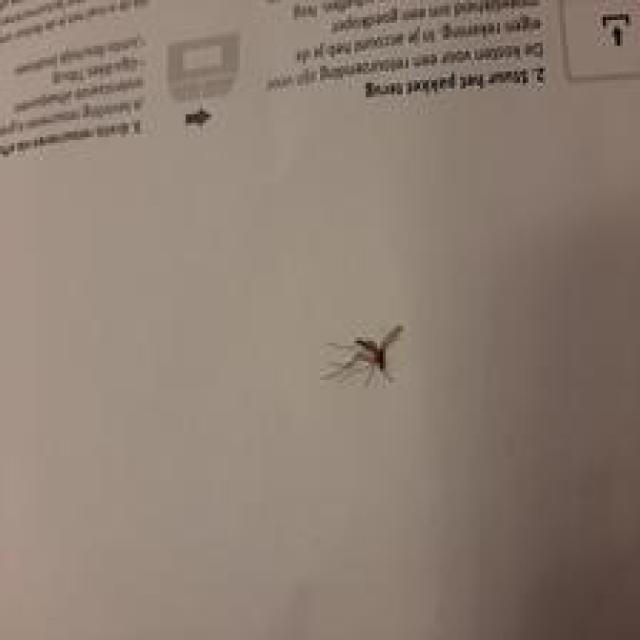Culex: (320, 323, 406, 388)
